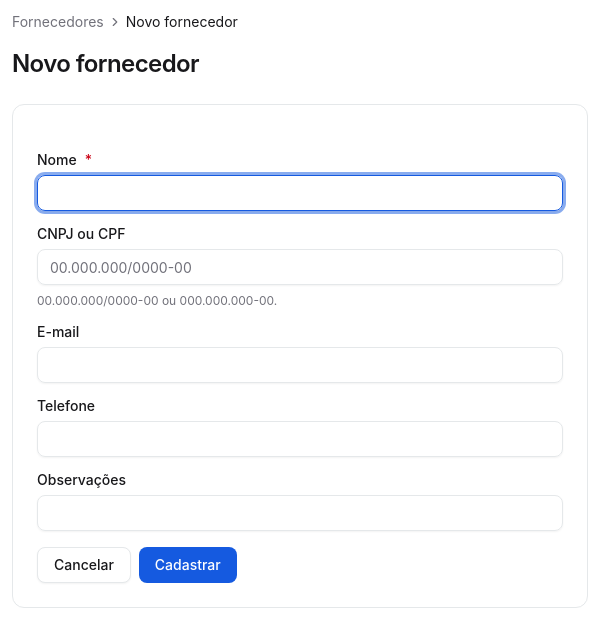
Test: SupplierNewPage › CNPJ em formato inválido é rejeitado antes de chamar a API
The width and height of the screenshot is (605, 625).
In the field labelled "Nome *": x=300, y=193 x1=37 y1=175 x2=563 y2=211, type "Fornecedor Teste"
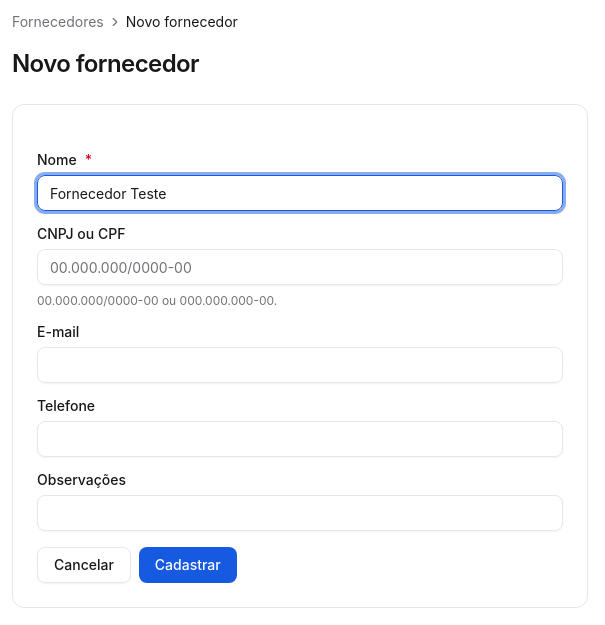
In the field labelled "CNPJ ou CPF": x=300, y=267 x1=37 y1=249 x2=563 y2=285, type "12345"
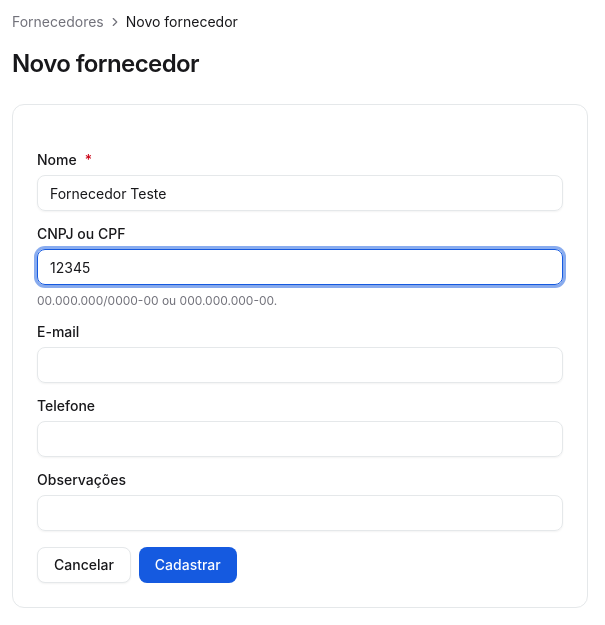
Click the button "Cadastrar": x=188, y=565 x1=139 y1=547 x2=237 y2=583
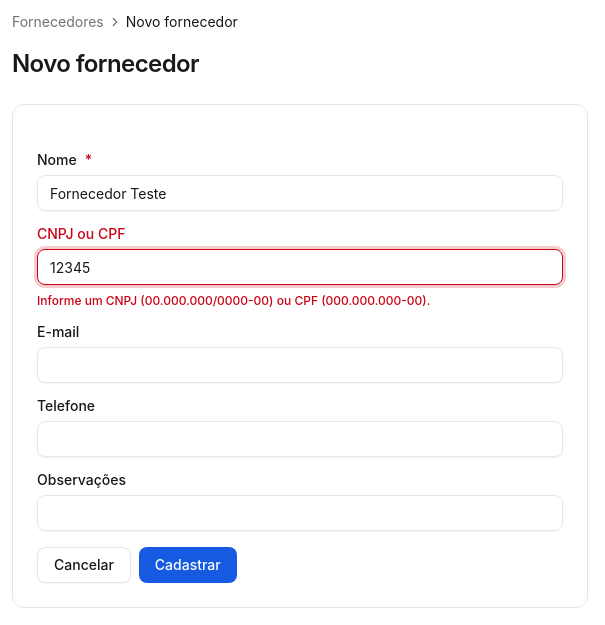
expect the text "Informe um CNPJ (00.000.000/0000-00) ou CPF (000.000.000-00)." is shown: met, box x1=37 y1=293 x2=430 y2=308
